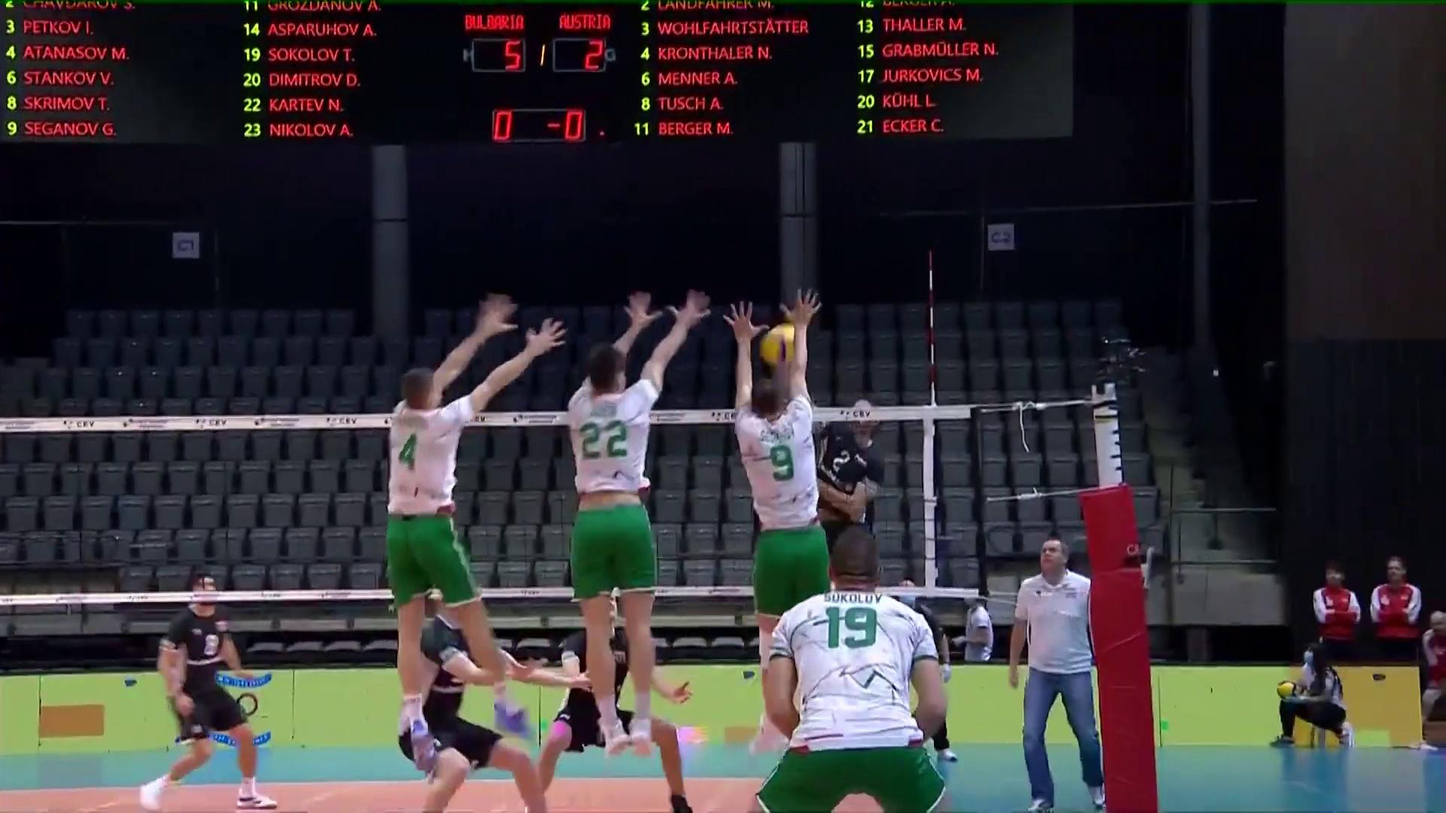ball: (763, 325, 795, 366)
